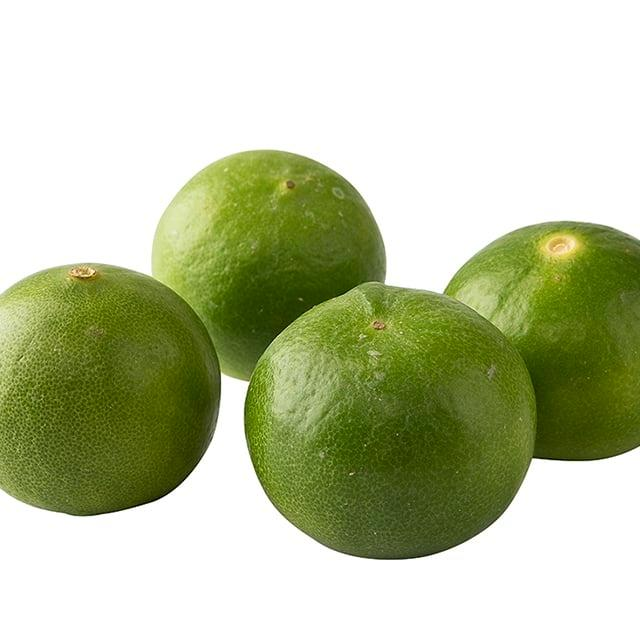lime: (236, 272, 544, 566), (0, 232, 230, 558), (138, 138, 398, 394), (436, 208, 640, 472)
